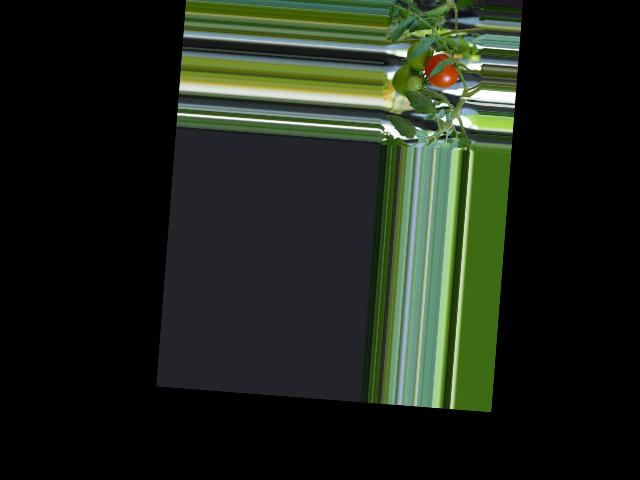tomato: (423, 52, 459, 89)
